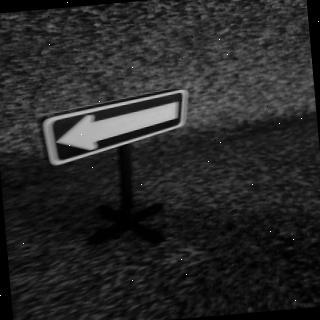sign_oneway_left: (41, 89, 196, 169)
